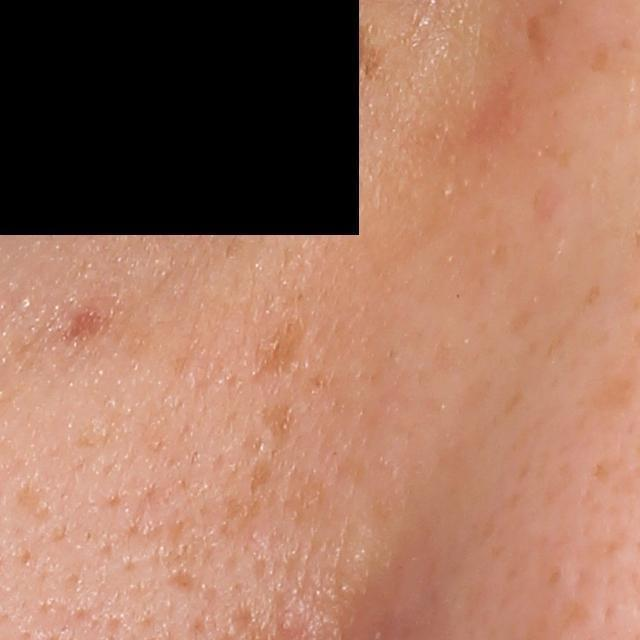atrophic_scar: (14, 483, 59, 526)
melasma: (213, 456, 275, 540), (243, 311, 310, 383), (256, 393, 302, 446), (523, 5, 558, 62), (584, 35, 620, 80)
